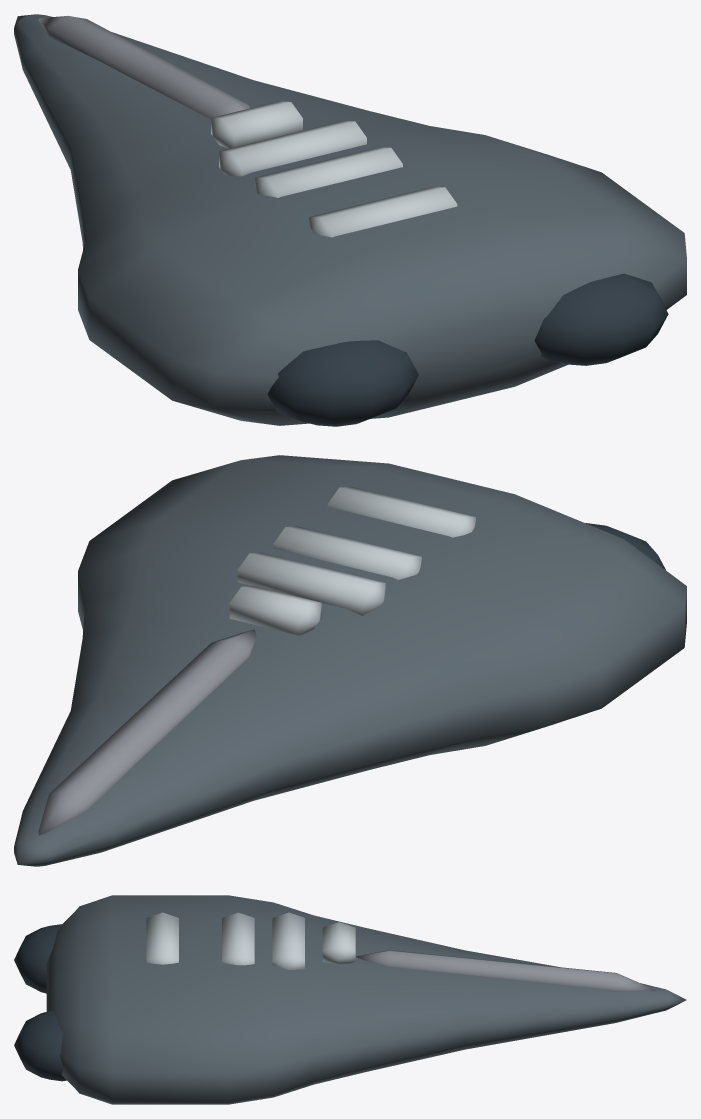
File: newshh-155.glb
3 views of the same model, one above another, from view 1: azimuth 30°, elevation 25°; view 2: azimuth 150°, elevation 25°; view 3: azimuth 270°, elevation 25° (orthographic). The views are drawn at different scales.
Parts seen in each view (by area): view 1: newshh-155; view 2: newshh-155; view 3: newshh-155.
Boxes of the visible parts, x1,y1,x2,y2 form: newshh-155: [14, 14, 686, 426]; newshh-155: [14, 455, 686, 866]; newshh-155: [14, 895, 686, 1104].
Size of the model in its own units: 1.37 by 0.4328 by 2.23.
